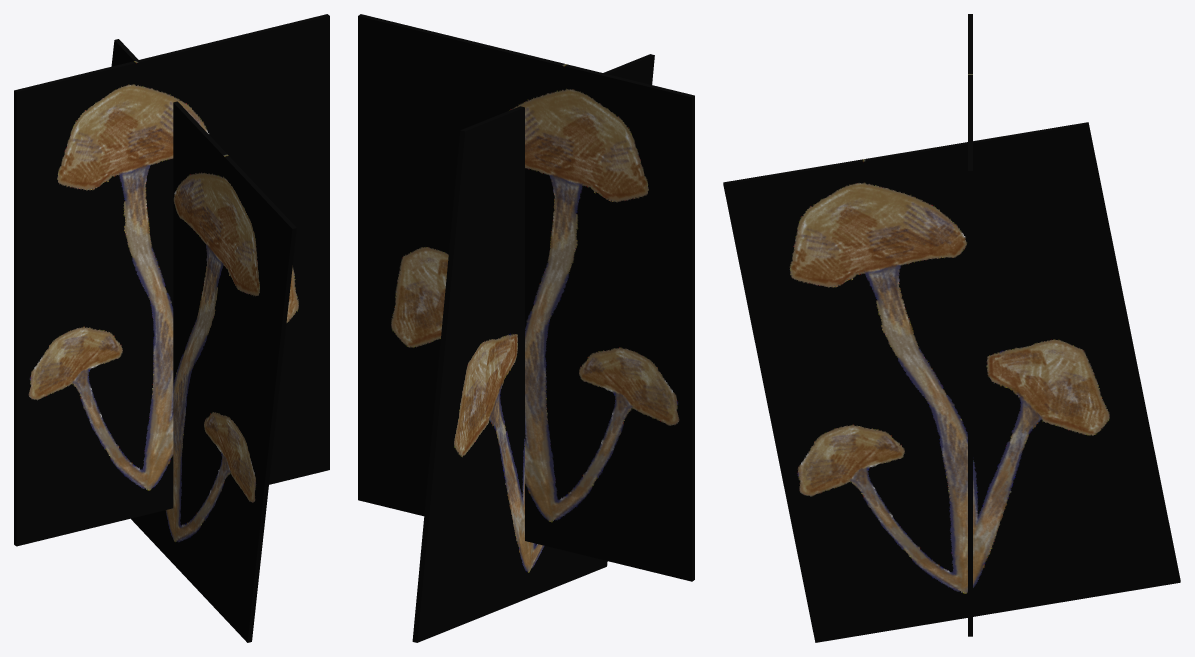
File: BrownMushroom1.fbx
The picture shows the model from 3 angles, left to right: view 1: azimuth 30°, elevation 25°; view 2: azimuth 150°, elevation 25°; view 3: azimuth 270°, elevation 25°; orthographic projection. The views are drawn at different scales.
Visible parts, largest first — view 1: BrownMushroom1; view 2: BrownMushroom1; view 3: BrownMushroom1.
Part boxes in pixels (x1,y1,x2,y2): BrownMushroom1: (14, 14, 329, 642); BrownMushroom1: (358, 14, 694, 642); BrownMushroom1: (723, 14, 1180, 642).
Size of the model in its own units: 284 by 462 by 349.
1 material, 1 textured.
